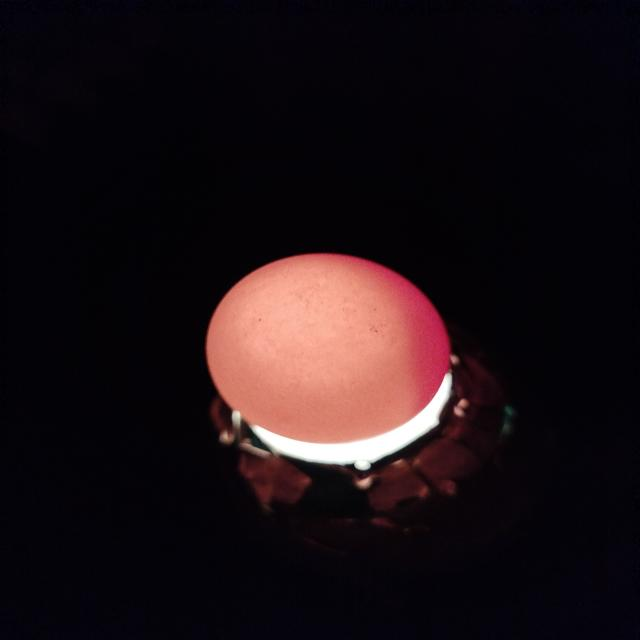Gema Quebrada: (303, 253, 447, 415)
